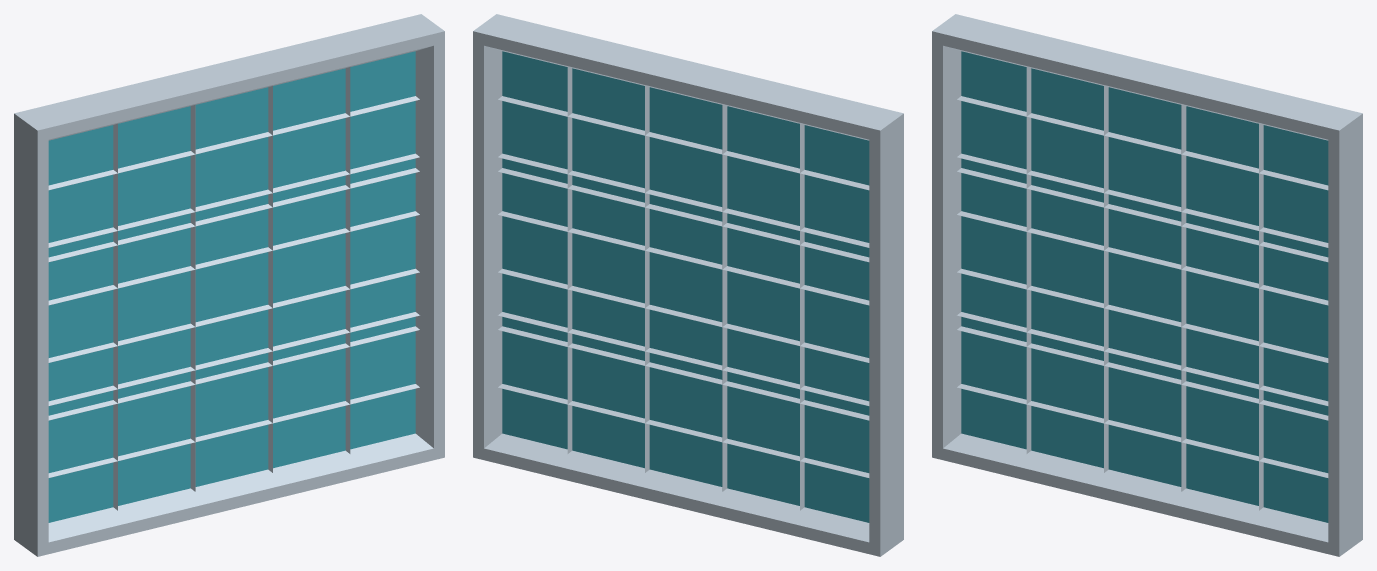
The model's file is japan_windows.fbx.
3 views of the same model, side by side, from view 1: azimuth 30°, elevation 25°; view 2: azimuth 150°, elevation 25°; view 3: azimuth 330°, elevation 25° (orthographic).
Visible parts, largest first — view 1: window.10, window.9; view 2: window.10, window.9; view 3: window.10, window.9.
Part boxes in pixels (x1,y1,x2,y2): window.10: [14, 14, 444, 556]; window.9: [48, 67, 419, 510]; window.10: [473, 14, 903, 556]; window.9: [498, 67, 869, 510]; window.10: [932, 14, 1362, 556]; window.9: [957, 67, 1328, 510].
Bounding box in the file's own units: 200 × 200 × 20.
